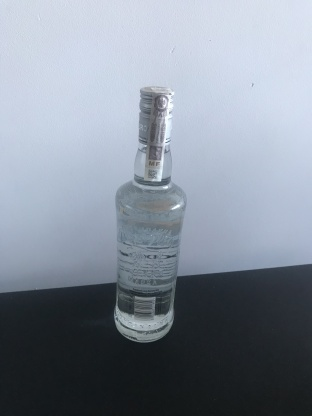nakretka: (136, 81, 176, 147)
